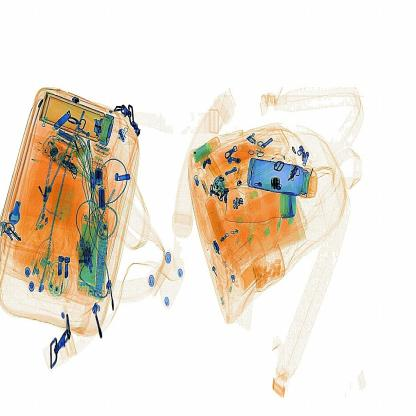scissors: (268, 175, 284, 195)
